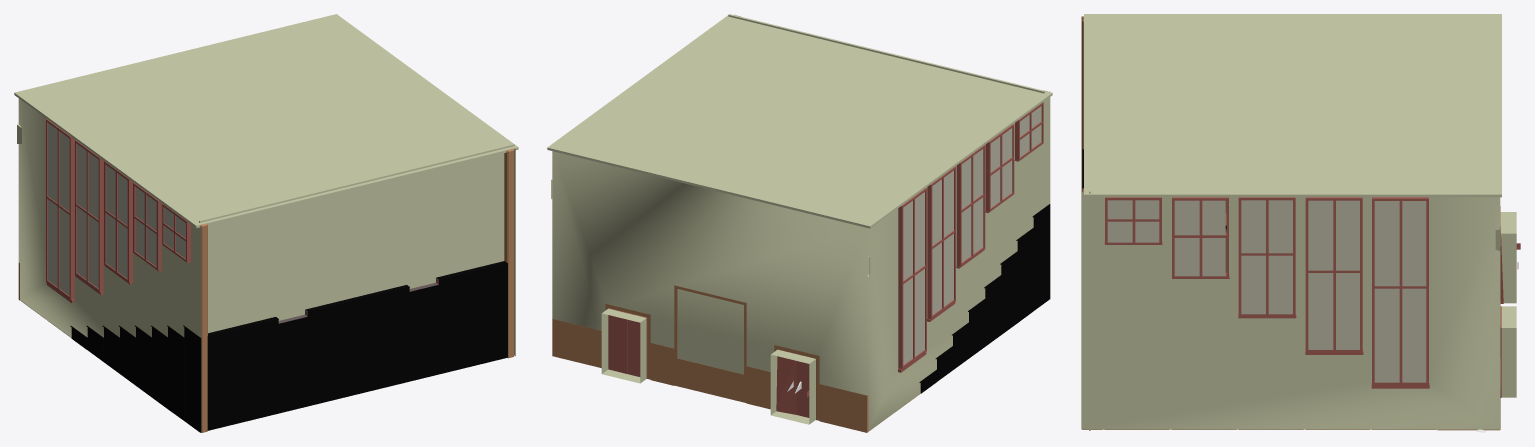
The model's file is LectureHall.fbx.
3 renders of one model, left to right at view 1: azimuth 30°, elevation 25°; view 2: azimuth 150°, elevation 25°; view 3: azimuth 270°, elevation 25°, orthographic. The views are drawn at different scales.
Parts seen in each view (by area): view 1: walls; view 2: walls; view 3: walls.
Boxes of the visible parts, x1,y1,x2,y2 form: walls: (14,14,518,432); walls: (547,14,1052,432); walls: (1081,14,1520,432).
Bounding box in the file's own units: 819 × 506 × 839.
